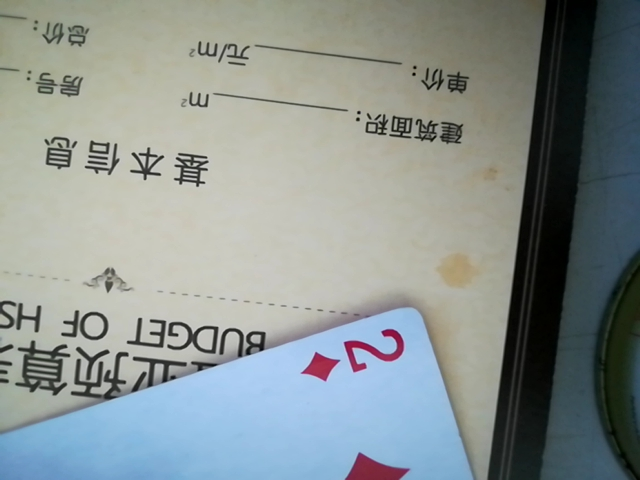fk 2: (0, 301, 486, 478)
